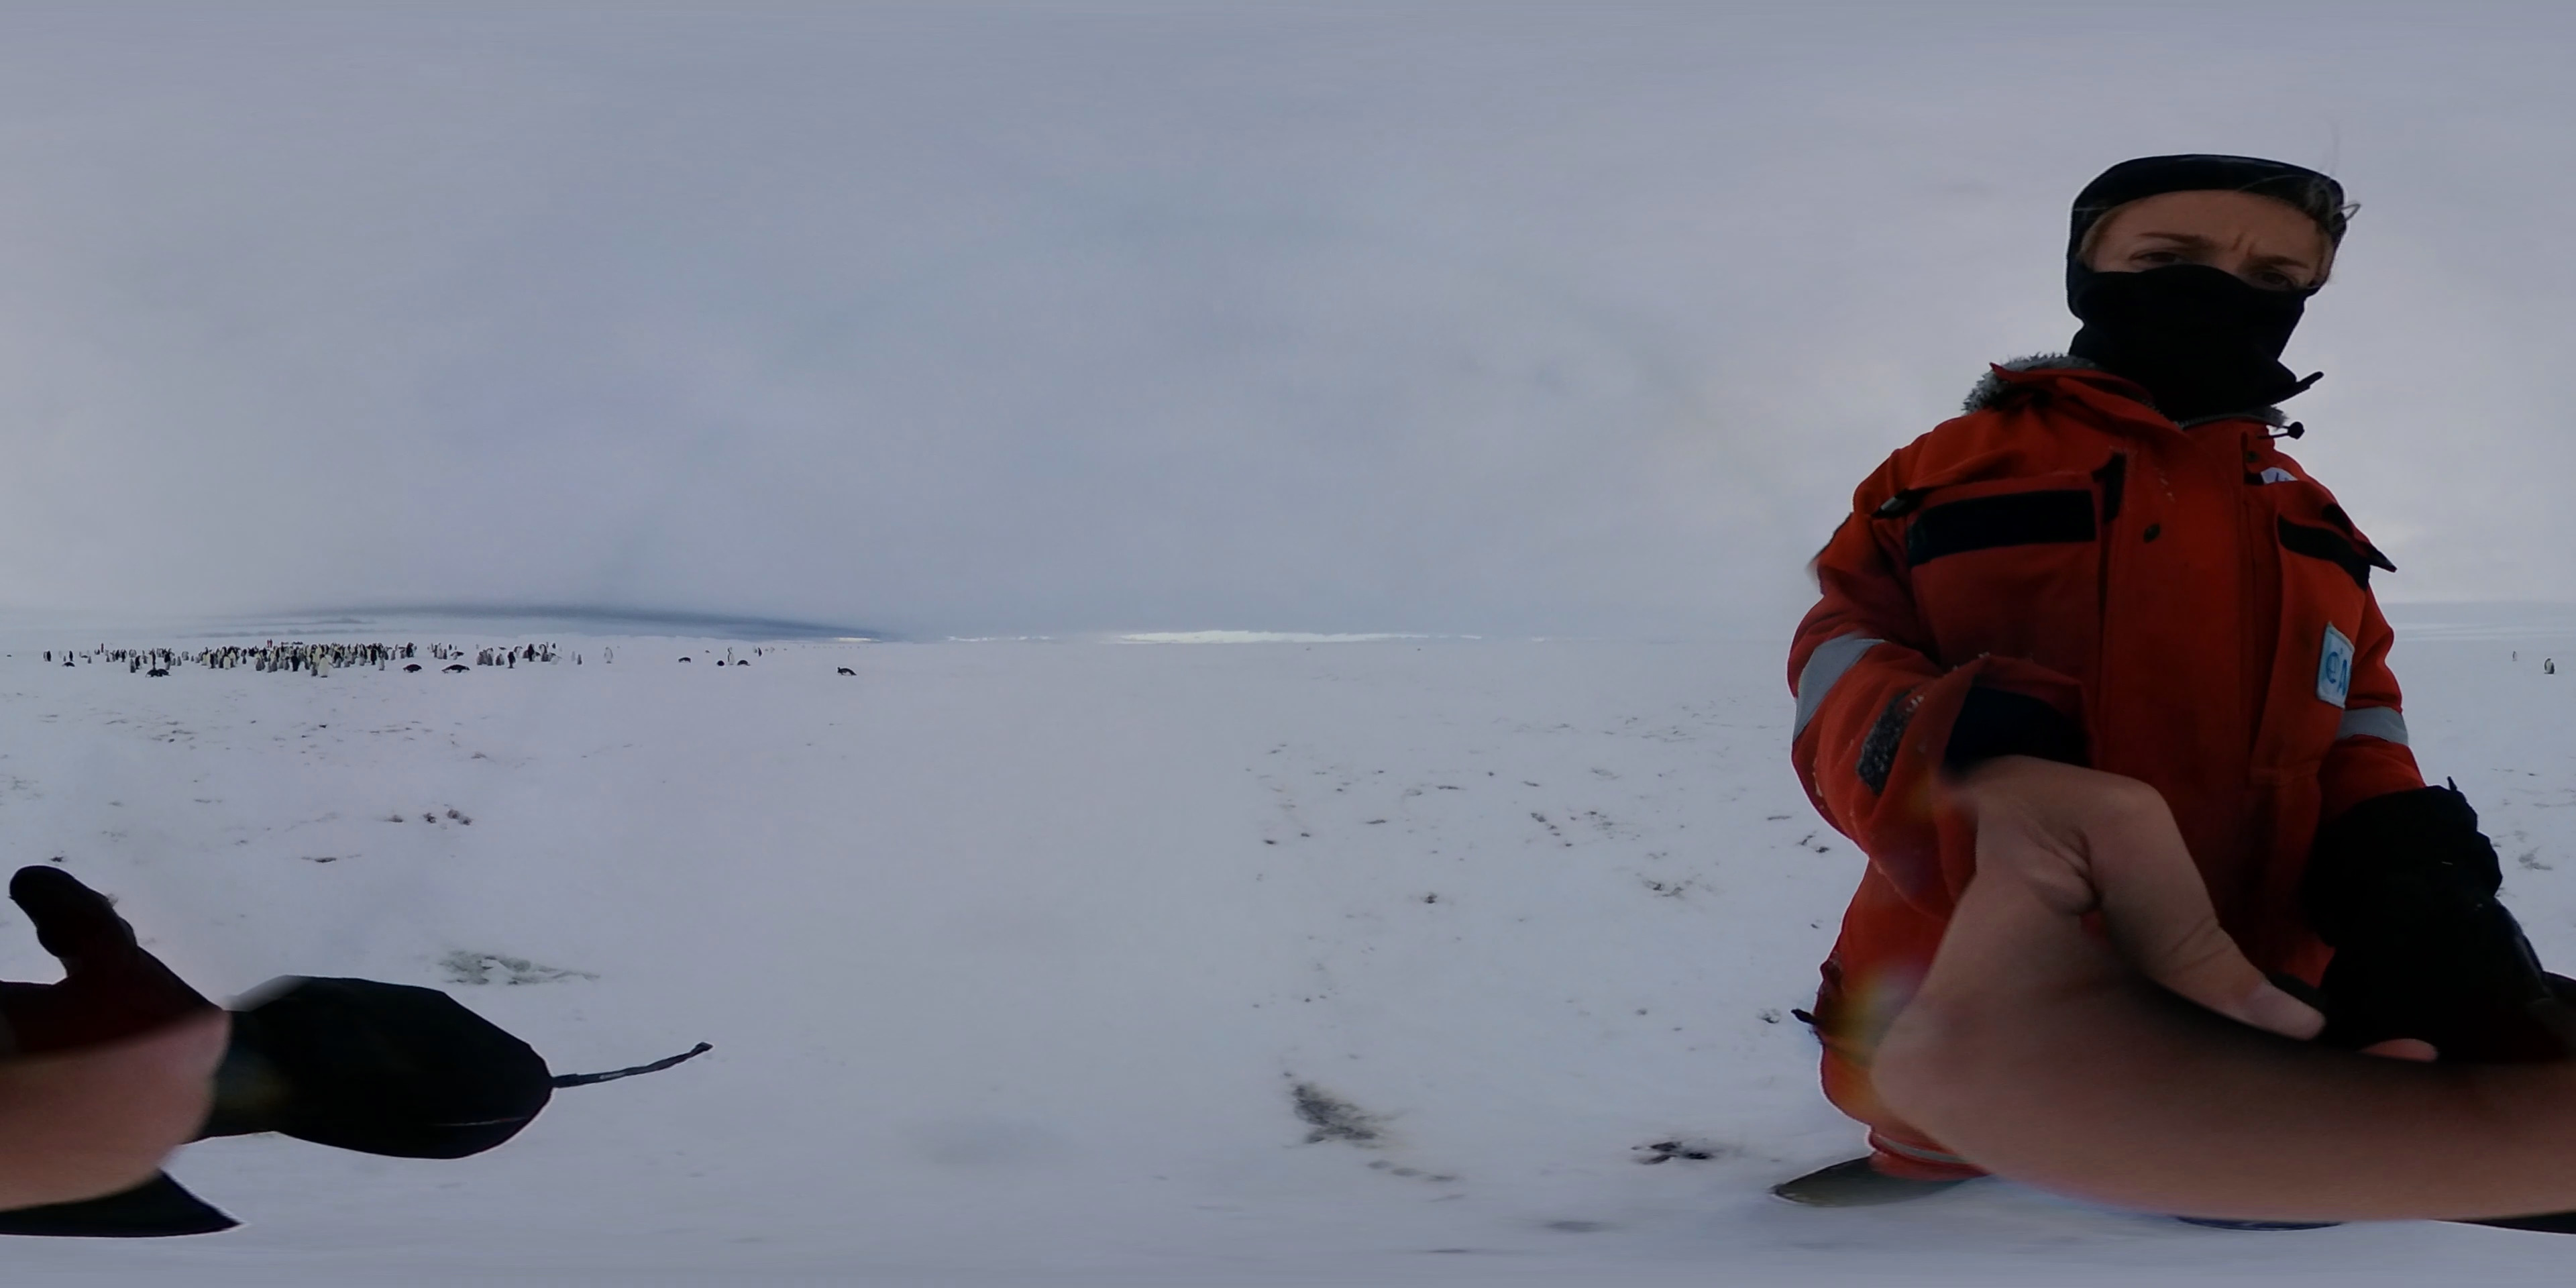adult_standing_penguin: (320, 651, 333, 680), (603, 644, 616, 664), (726, 647, 736, 667)
adult_toboggan_penguin: (835, 664, 856, 680), (440, 664, 473, 674), (402, 664, 424, 674), (678, 655, 692, 664)
researcher: (1756, 136, 2564, 1242)
